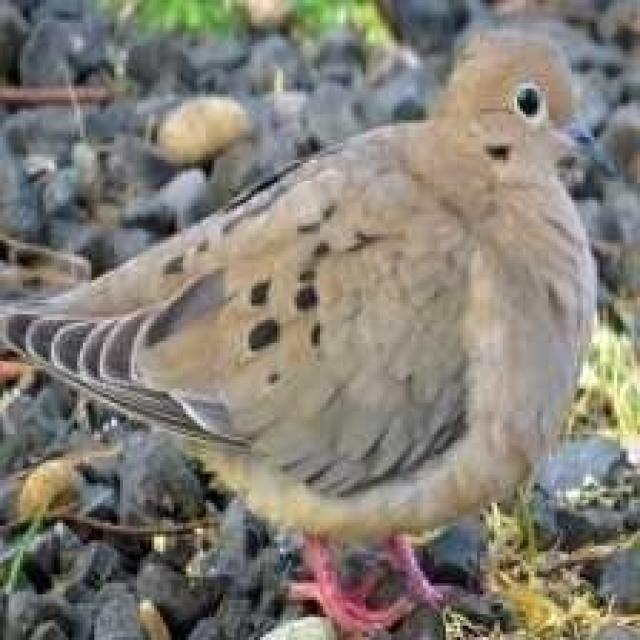dove: (1, 14, 623, 638)
